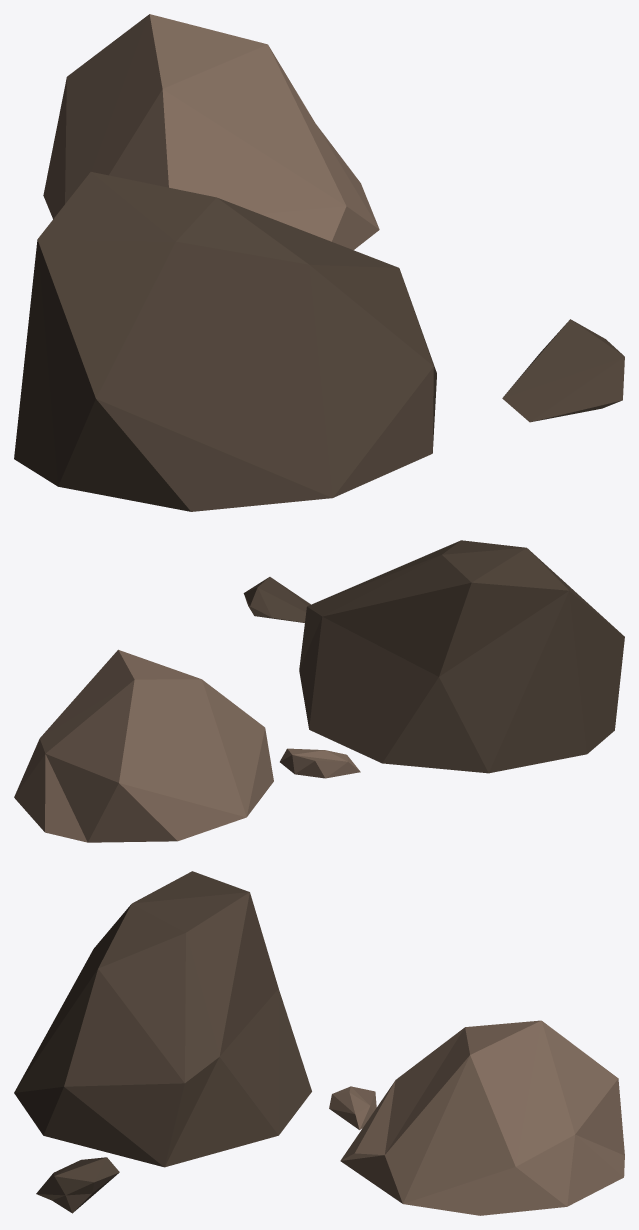
The model's file is Stone 6.glb.
3 views of the same model, one above another, from view 1: azimuth 30°, elevation 25°; view 2: azimuth 150°, elevation 25°; view 3: azimuth 270°, elevation 25° (orthographic). The views are drawn at different scales.
Visible parts, largest first — view 1: Stone 6; view 2: Stone 6; view 3: Stone 6.
Part boxes in pixels (bbox=[...]): Stone 6: bbox=[14, 14, 624, 511]; Stone 6: bbox=[14, 540, 624, 842]; Stone 6: bbox=[14, 871, 624, 1215].
Size of what is drawn, in the model's own units: 1.91 by 0.8252 by 2.52.
1 material, 1 textured.
